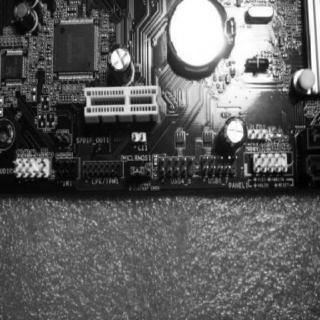other: (170, 3, 232, 71)
